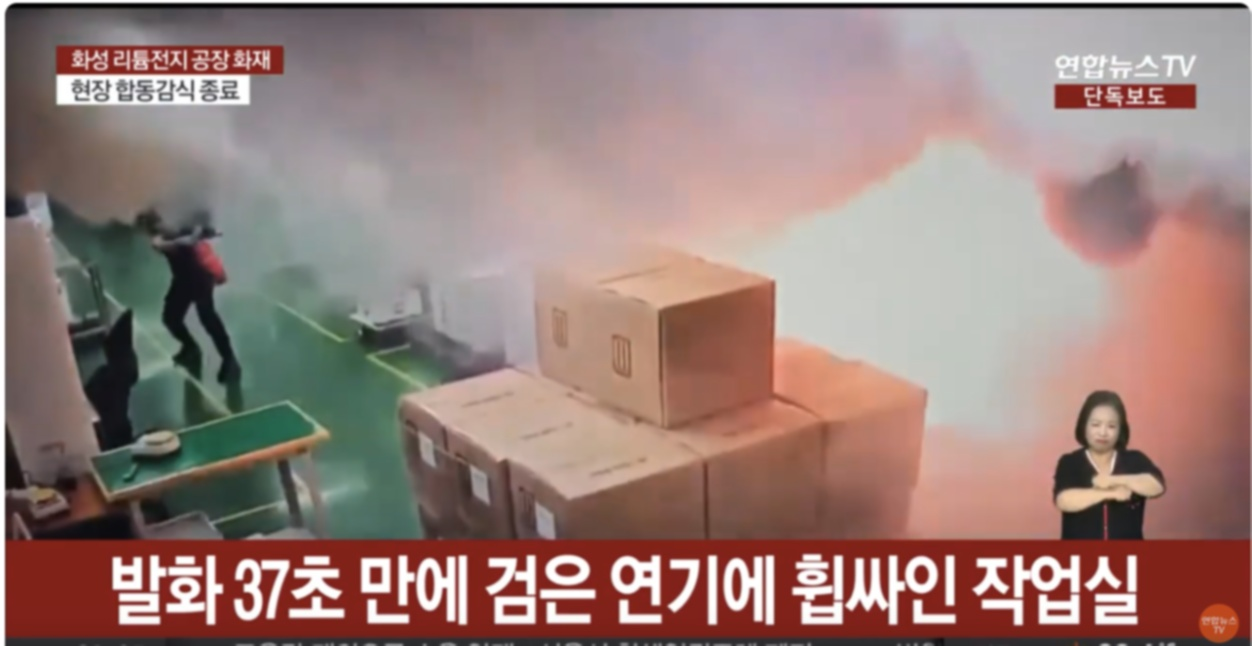smoke: (313, 111, 1230, 309)
